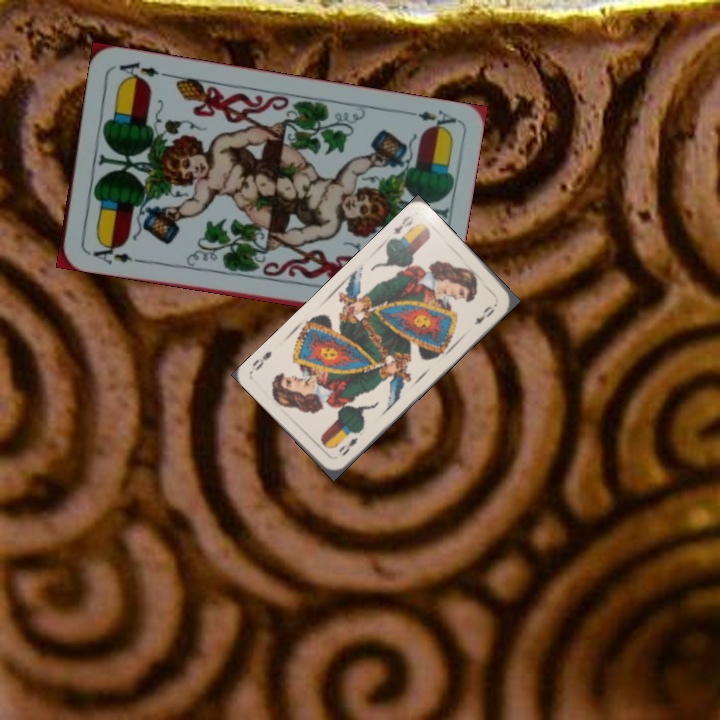EA: (83, 238, 142, 268), (400, 105, 459, 135)
EO: (388, 211, 417, 237), (335, 433, 360, 459)
